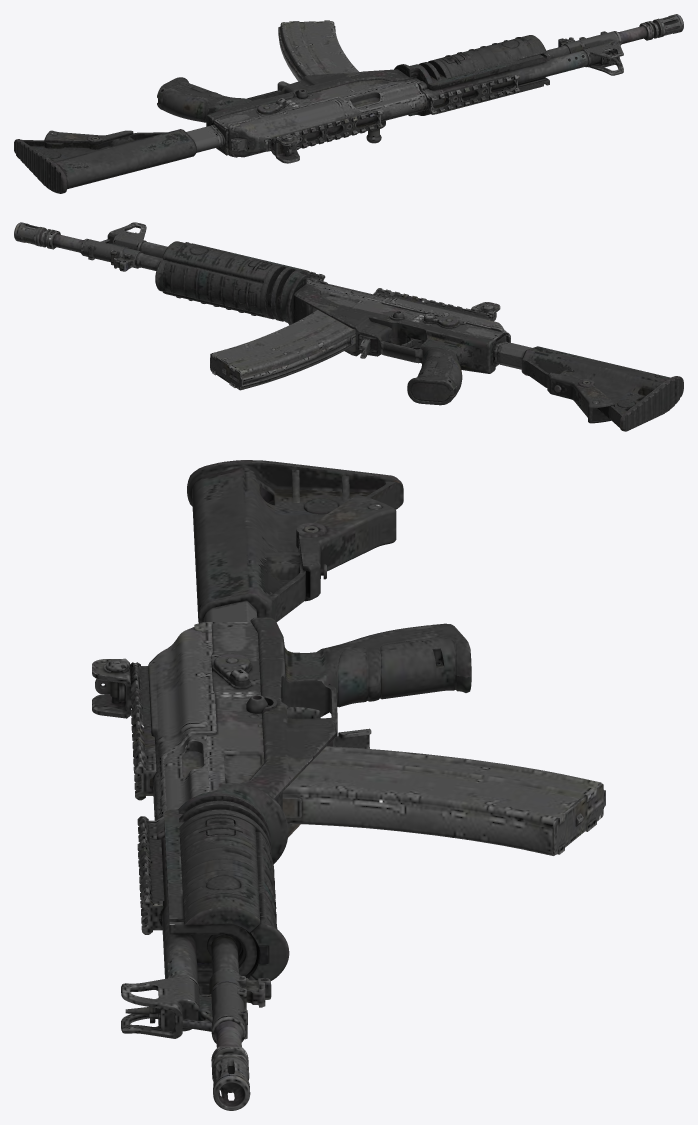
Rendered from w_galil.glb.
3 renders of one model, top to bottom at view 1: azimuth 30°, elevation 25°; view 2: azimuth 150°, elevation 25°; view 3: azimuth 270°, elevation 25°, orthographic. The views are drawn at different scales.
Parts seen in each view (by area): view 1: w_galil; view 2: w_galil; view 3: w_galil.
Part boxes in pixels (x1,y1,x2,y2): w_galil: (14,14,683,193); w_galil: (14,222,683,431); w_galil: (92,460,605,1110).
Size of the model in its own units: 1.13 by 0.1041 by 0.4016.
Materials: 1 (1 with a texture image).
